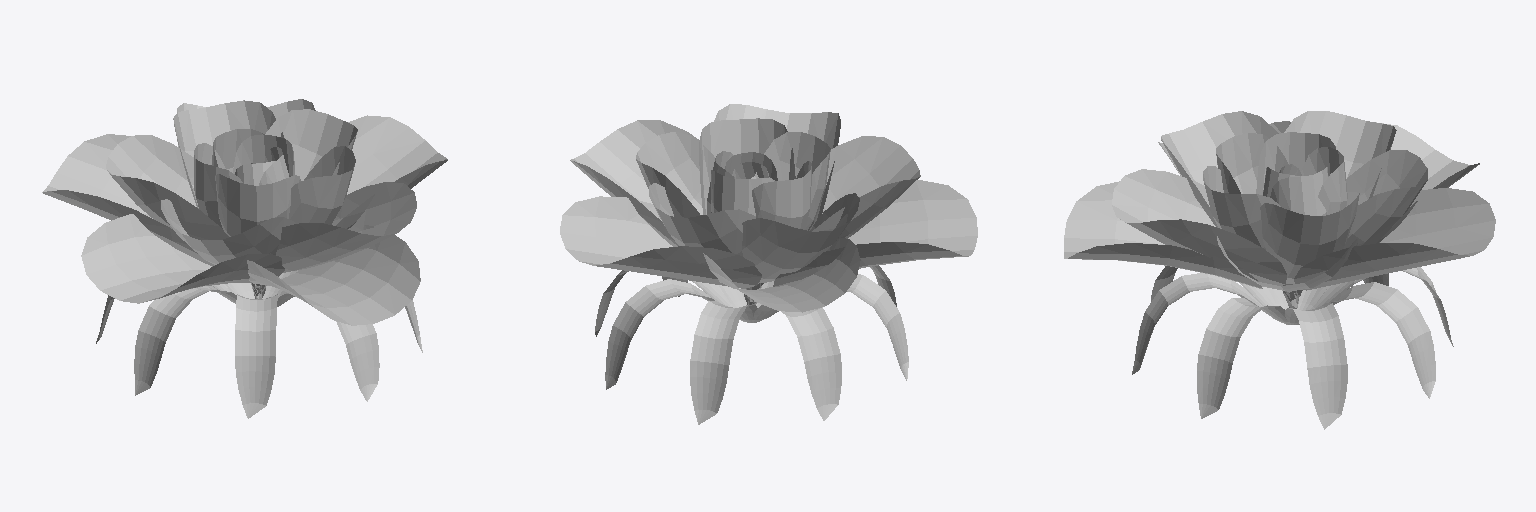
The model's file is FlowerTopModel_03_seq_0037.obj.
3 views of the same model, side by side, from view 1: azimuth 30°, elevation 25°; view 2: azimuth 150°, elevation 25°; view 3: azimuth 270°, elevation 25° (orthographic).
Parts seen in each view (by area): view 1: FlowerTopModel_03; view 2: FlowerTopModel_03; view 3: FlowerTopModel_03.
Boxes of the visible parts, box(x1,y1,x2,y2) form: FlowerTopModel_03: box(42, 99, 447, 418); FlowerTopModel_03: box(560, 104, 977, 424); FlowerTopModel_03: box(1064, 111, 1495, 429).
Size of the model in its own units: 837 by 444 by 858.